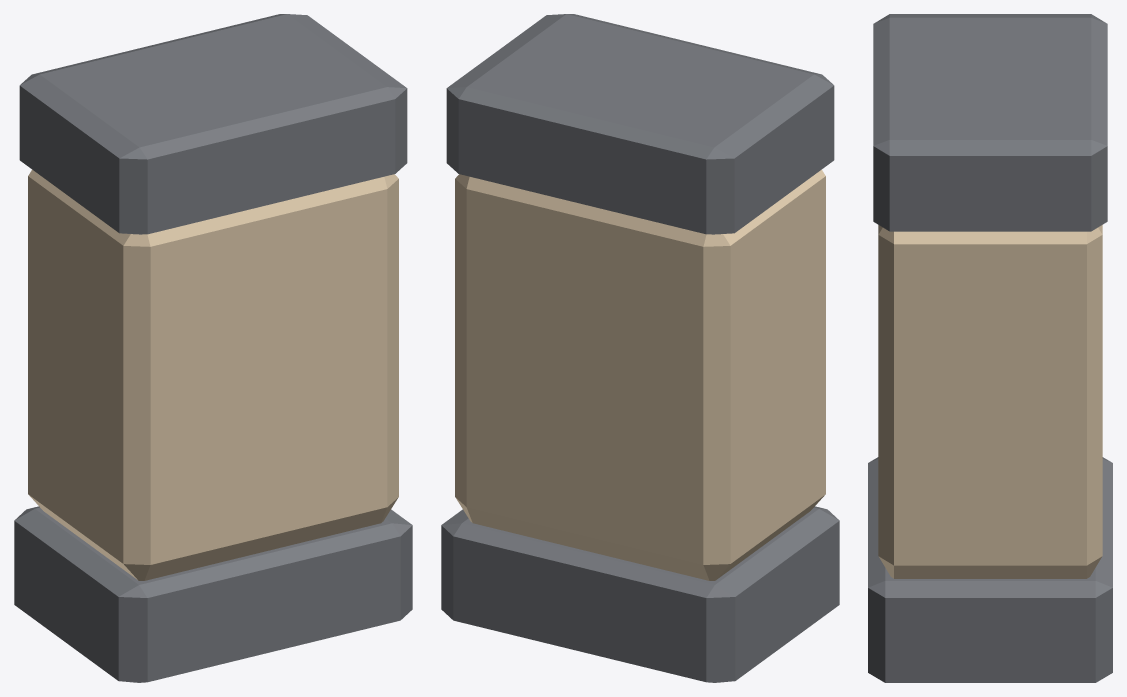
Rendered from b04_folded_top_paper_leaf_sack.glb.
The picture shows the model from 3 angles, left to right: view 1: azimuth 30°, elevation 25°; view 2: azimuth 150°, elevation 25°; view 3: azimuth 270°, elevation 25°; orthographic projection.
Visible parts, largest first — view 1: b04_folded_top_paper_leaf_sack; view 2: b04_folded_top_paper_leaf_sack; view 3: b04_folded_top_paper_leaf_sack.
Boxes of the visible parts, x1,y1,x2,y2 form: b04_folded_top_paper_leaf_sack: (14, 14, 412, 682); b04_folded_top_paper_leaf_sack: (441, 14, 839, 682); b04_folded_top_paper_leaf_sack: (868, 14, 1112, 682).
Size of the model in its own units: 0.44 by 0.762 by 0.314.
